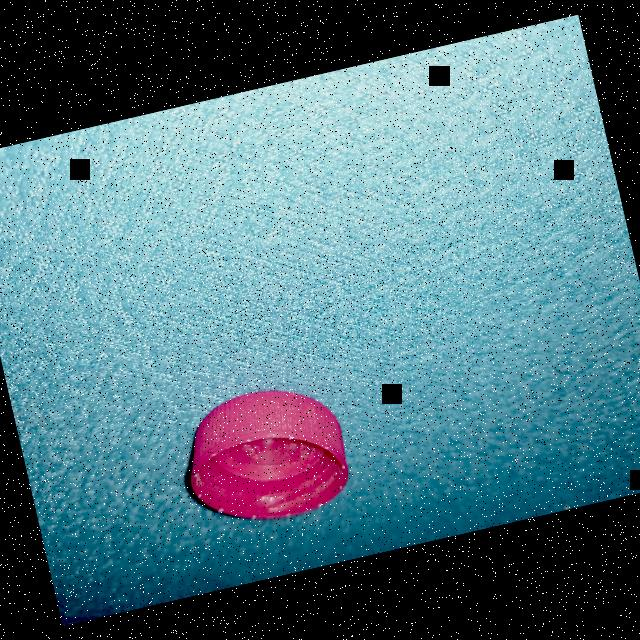plastic_bottle_cap: (174, 374, 358, 534)
